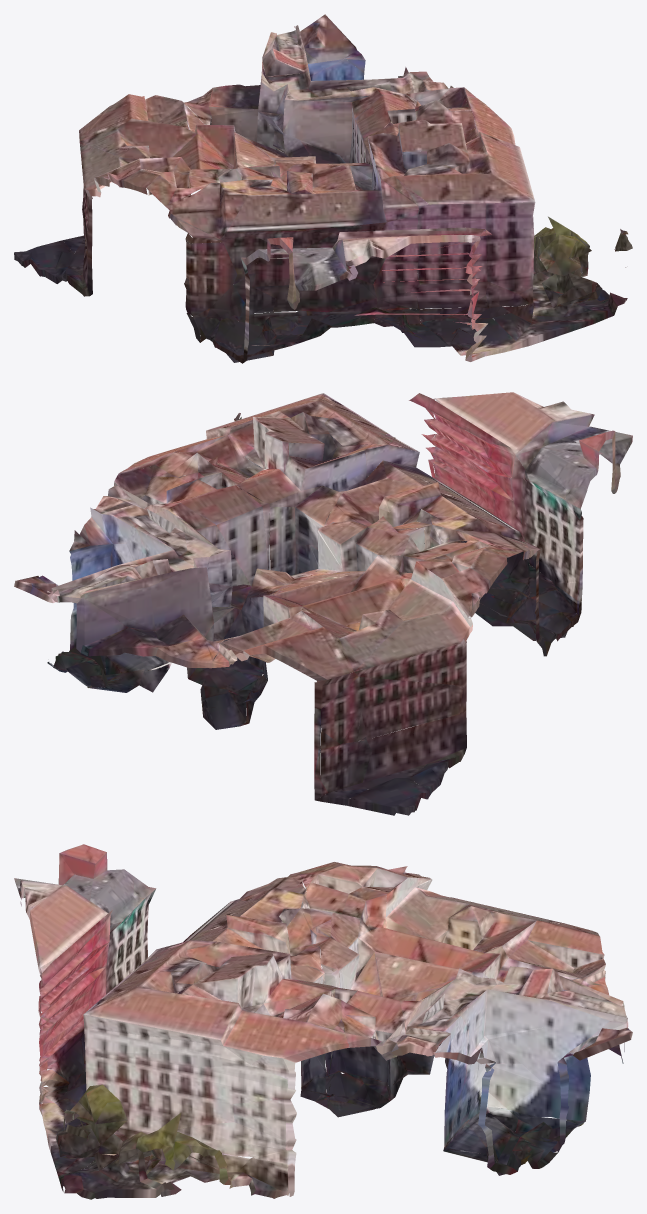
The picture shows the model from 3 angles, top to bottom: view 1: azimuth 30°, elevation 25°; view 2: azimuth 150°, elevation 25°; view 3: azimuth 270°, elevation 25°; orthographic projection. The views are drawn at different scales.
Parts seen in each view (by area): view 1: Mesh_0; view 2: Mesh_0; view 3: Mesh_0.
Part boxes in pixels (x1,y1,x2,y2): Mesh_0: (14, 14, 632, 363); Mesh_0: (14, 392, 632, 815); Mesh_0: (14, 844, 632, 1199).
Bounding box in the file's own units: 67.48 × 29.77 × 82.74.
Materials: 2 (2 with a texture image).
